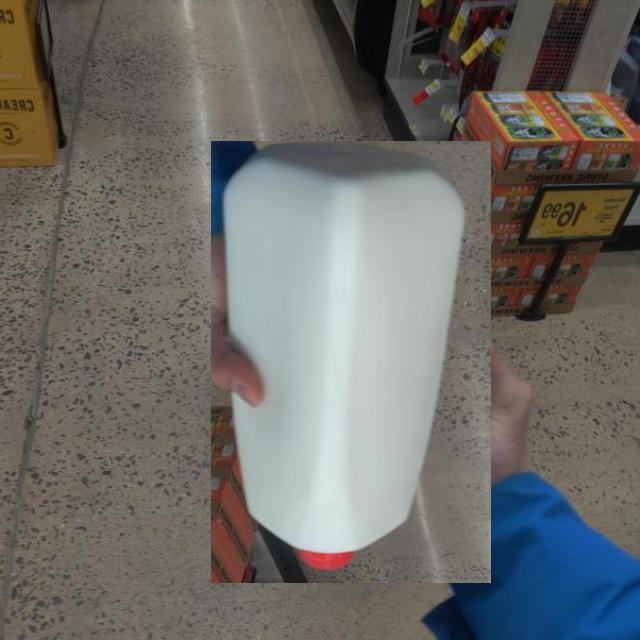Milk: (210, 140, 491, 583)
